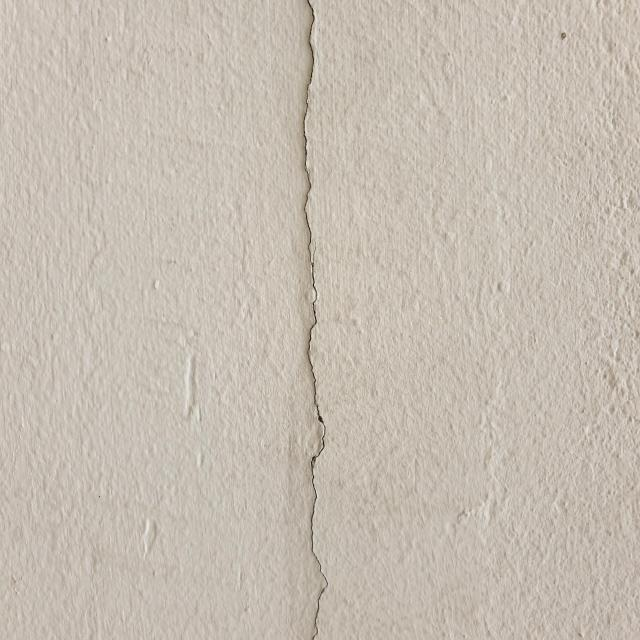SurfaceCrack: (251, 1, 376, 640)
